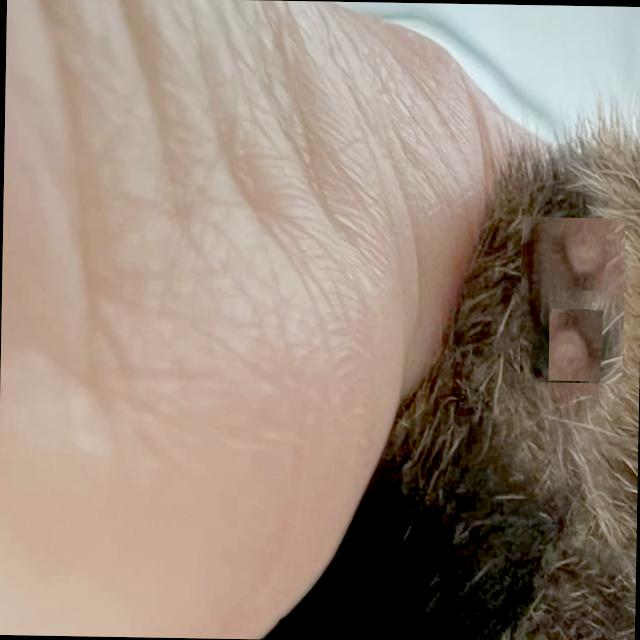mae: (518, 216, 624, 382)
mal: (547, 309, 599, 379)
